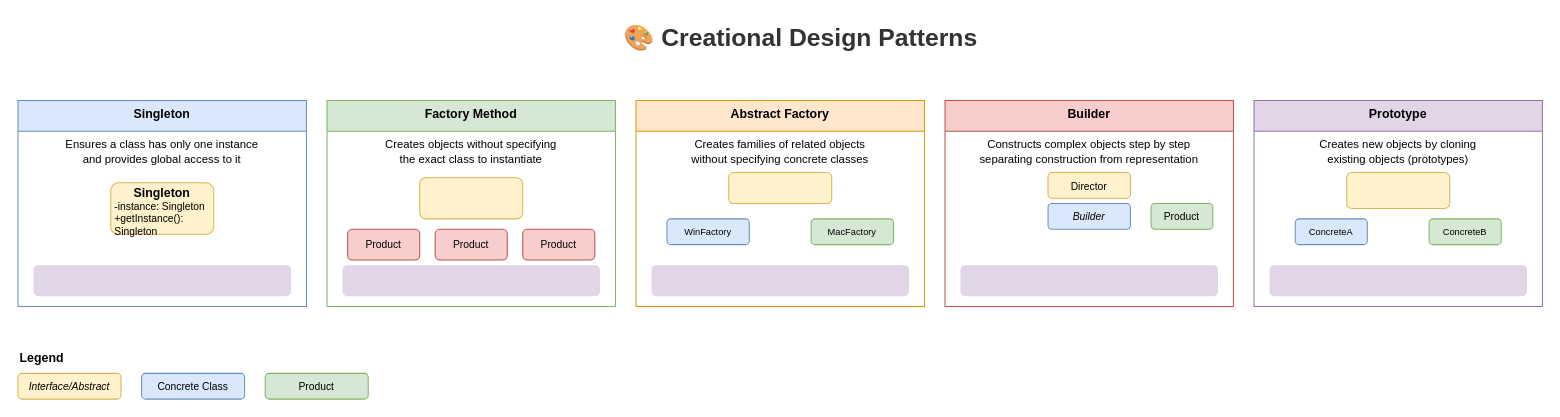
The diagram is 1560 pixels wide and 417 high, and some of its shapes have lost their labels. The box of each missing label's shape, as (x1, y1, x2, y2) in pixels:
AbstractFactory: (728, 171, 832, 203)
Creator +factoryMethod(): (419, 177, 523, 219)
Prototype +clone(): (1346, 171, 1450, 209)
Use: Configuration objects, Query builders: (960, 265, 1217, 296)
Use: Cross-platform UI toolkits: (651, 265, 908, 296)
Use: Database connections, Loggers, Config: (33, 265, 290, 296)
Use: Object caching, Expensive object creation: (1269, 265, 1526, 296)
Use: Plugin systems, UI components: (342, 265, 599, 296)
